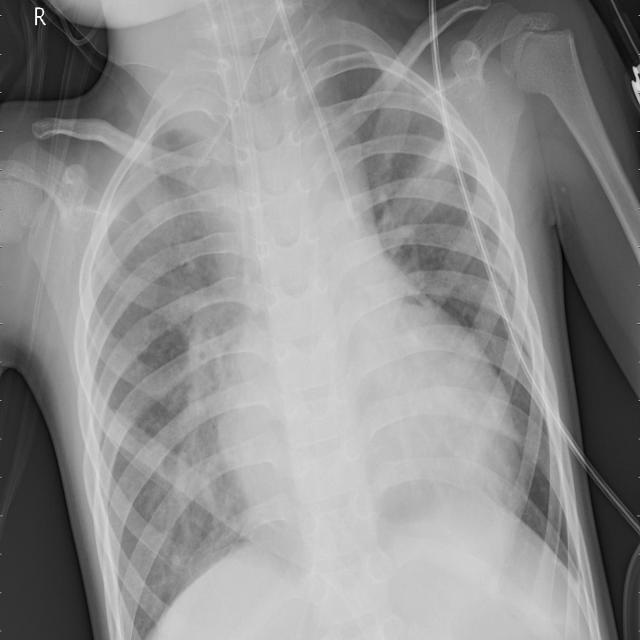high-pneumonia: (128, 273, 248, 588)
low-pneumonia: (93, 124, 233, 329)
